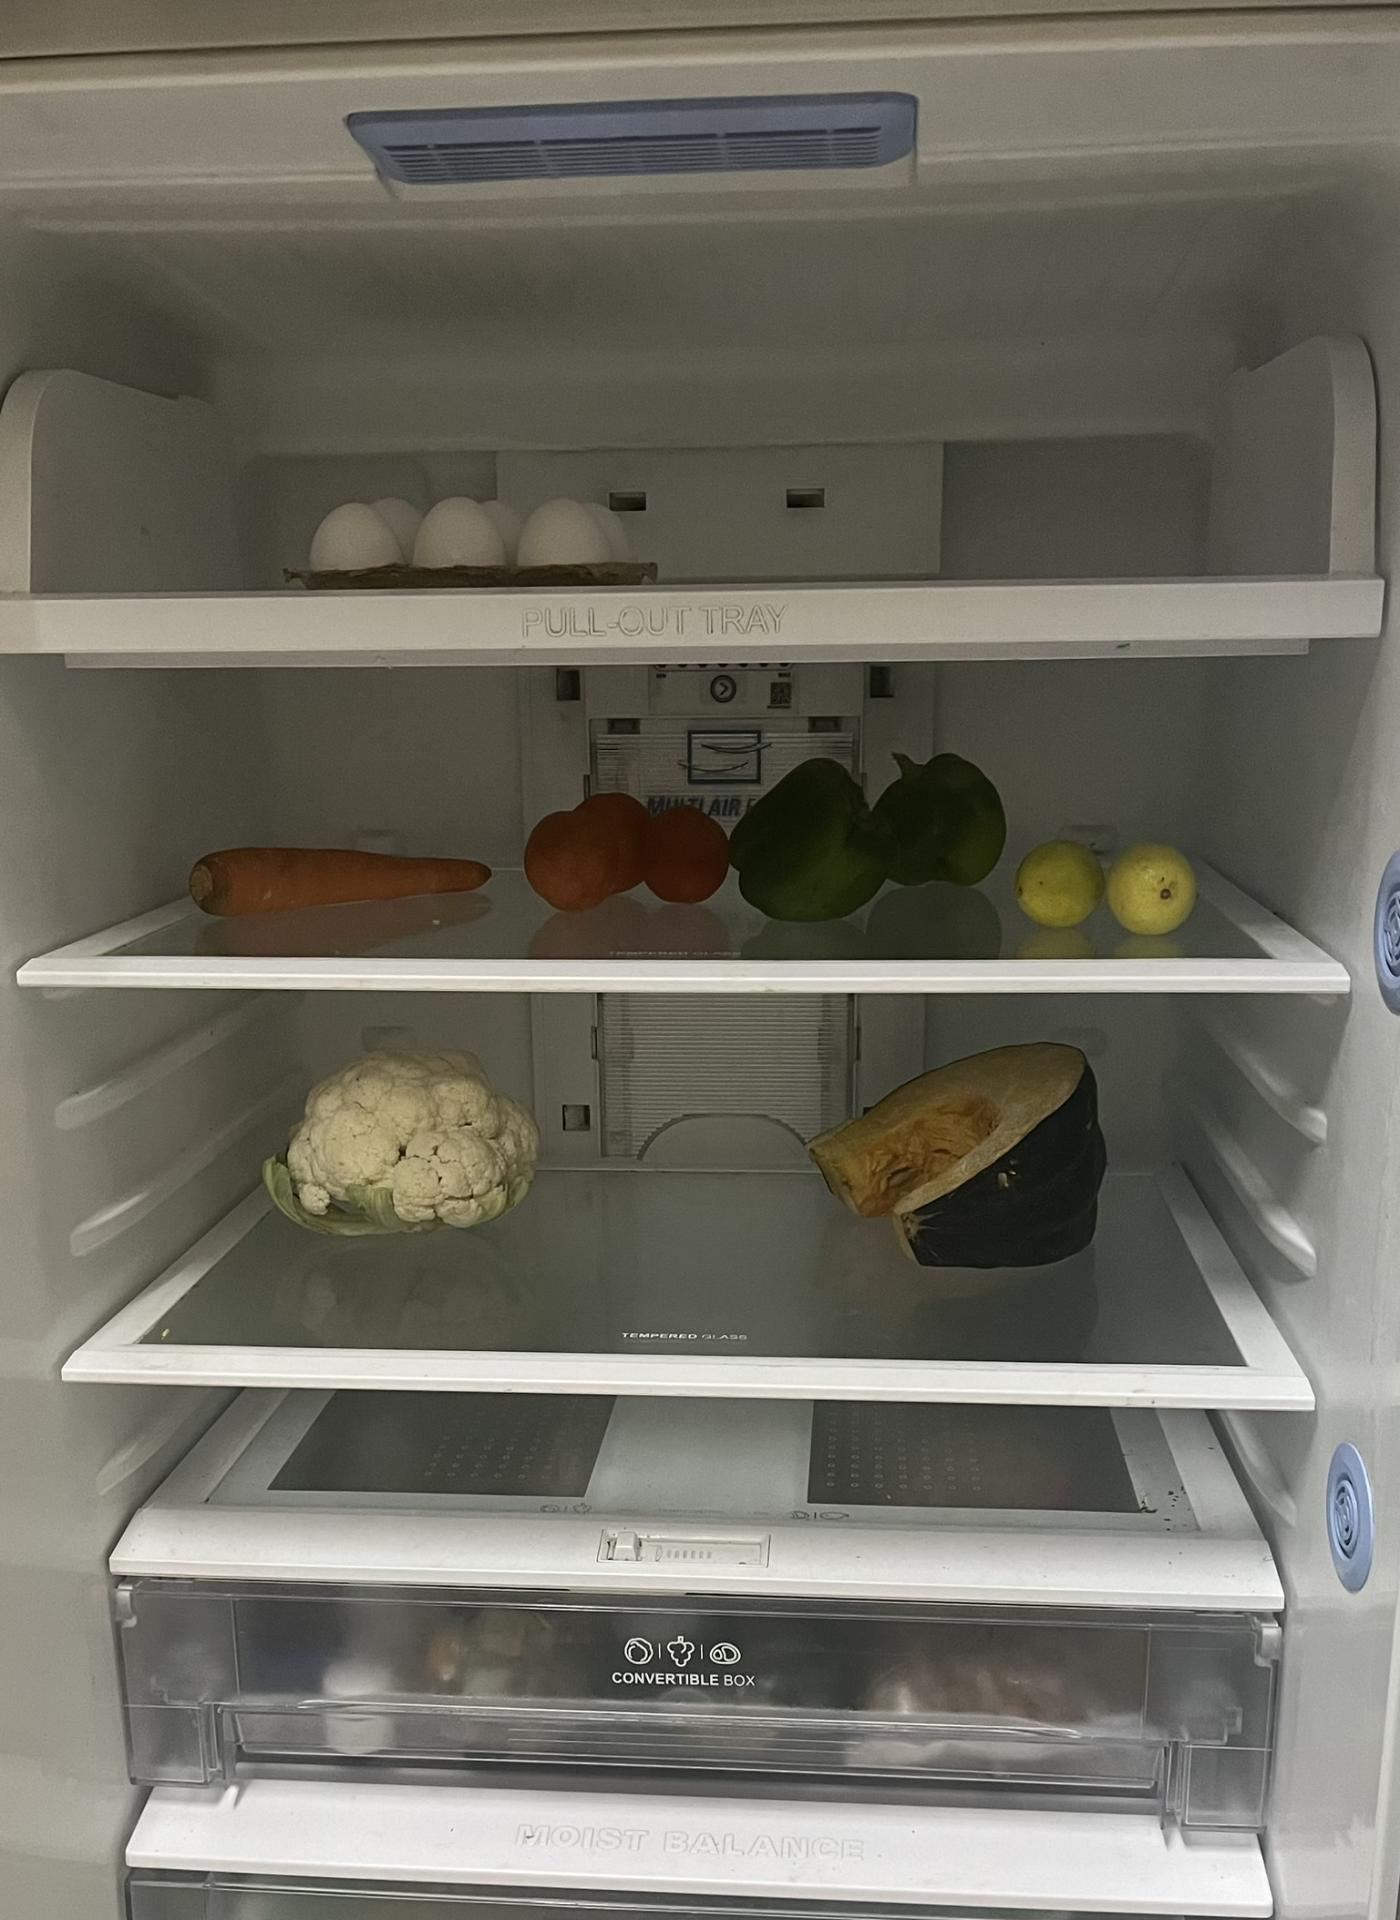capsicum: (734, 754, 1011, 920)
carrots: (180, 836, 492, 920)
cauliflower: (262, 1052, 541, 1230)
egg: (304, 487, 626, 575)
lemon: (1012, 835, 1199, 933)
pumpkin: (805, 1033, 1115, 1267)
tomato: (519, 787, 725, 908)
